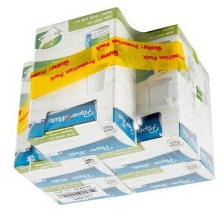book: (26, 3, 141, 165), (92, 22, 203, 177), (11, 47, 120, 190), (115, 49, 217, 195), (40, 75, 138, 207)
